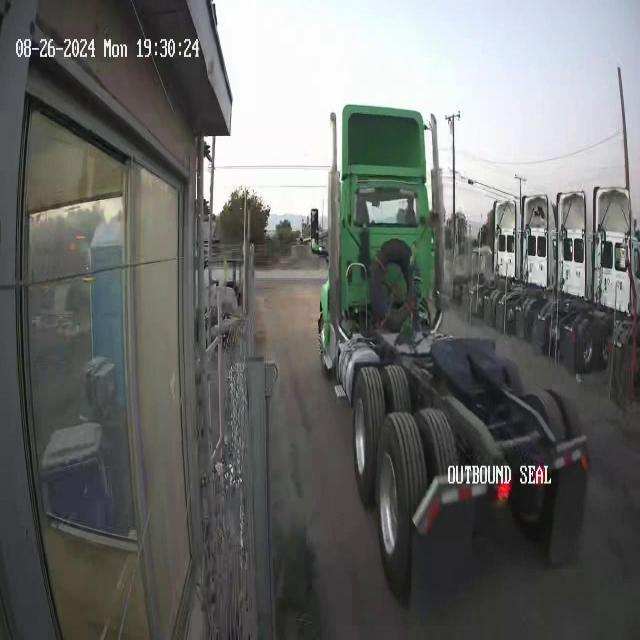TRUCK_OUT: (310, 96, 586, 600)
